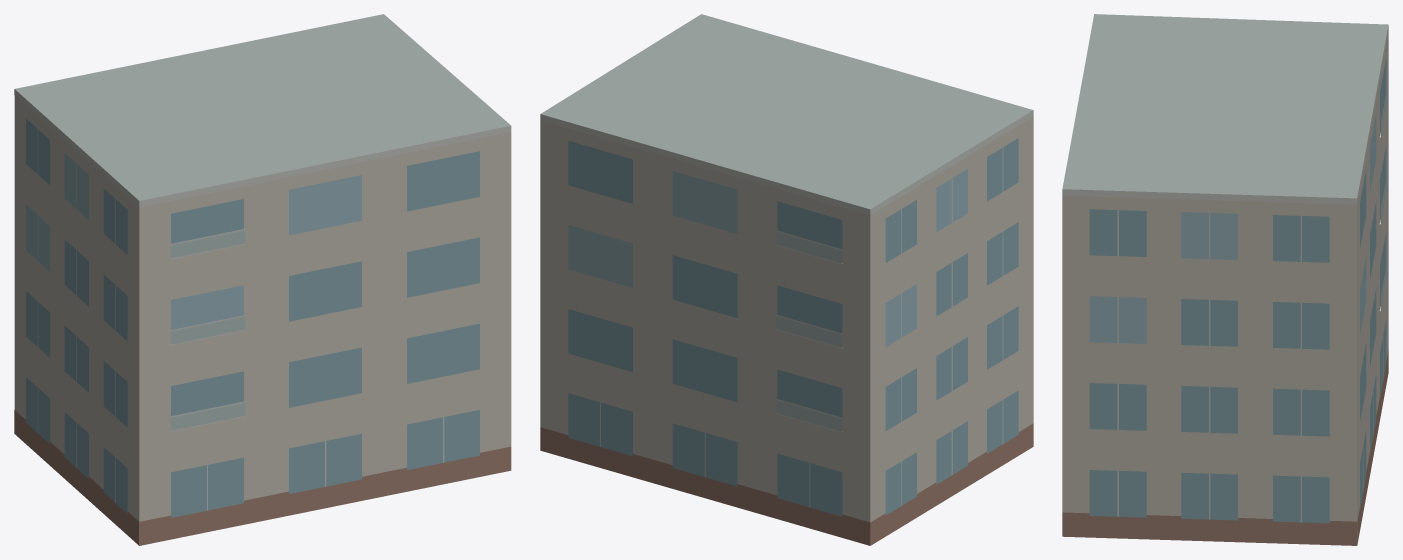
The model's file is survey-upis-32760550.glb.
3 views of the same model, side by side, from view 1: azimuth 30°, elevation 25°; view 2: azimuth 150°, elevation 25°; view 3: azimuth 270°, elevation 25° (orthographic). The views are drawn at different scales.
Visible parts, largest first — view 1: survey-upis-32760550.tmp; view 2: survey-upis-32760550.tmp; view 3: survey-upis-32760550.tmp.
Part boxes in pixels (bbox=[...]): survey-upis-32760550.tmp: bbox=[14, 14, 511, 545]; survey-upis-32760550.tmp: bbox=[540, 14, 1033, 545]; survey-upis-32760550.tmp: bbox=[1062, 14, 1388, 545].
Size of the model in its own units: 15.26 by 13.4 by 11.41.
